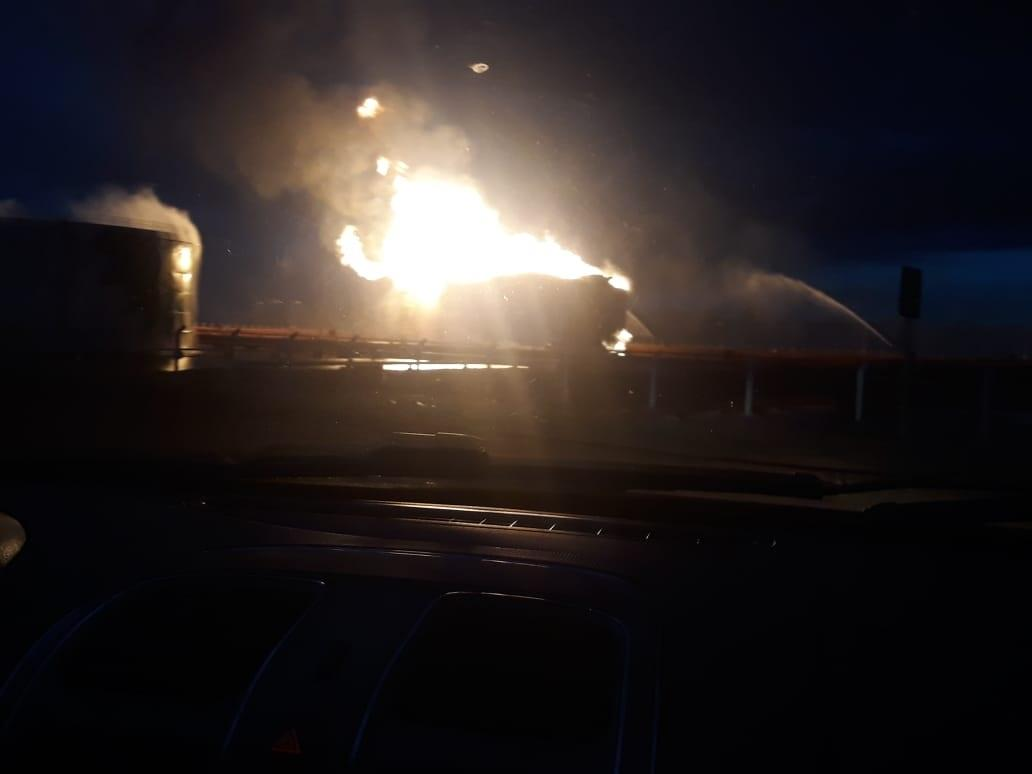fire: (316, 170, 598, 306)
